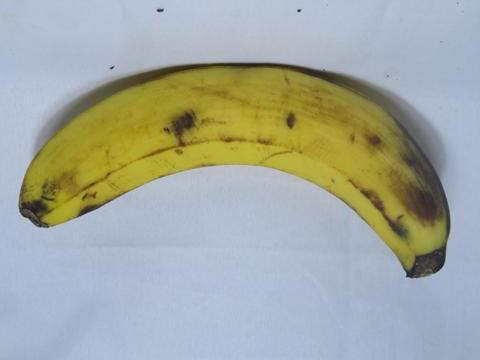ripe: (12, 43, 474, 289)
